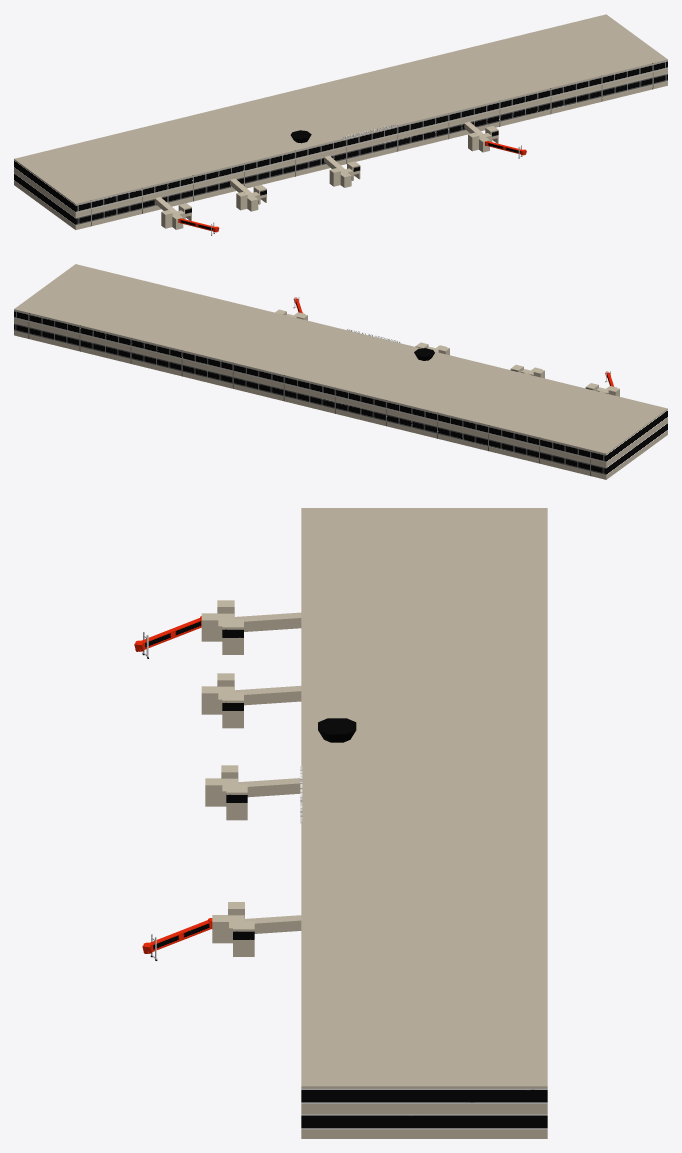
The model's file is LaPalma.glb.
3 renders of one model, top to bottom at view 1: azimuth 30°, elevation 25°; view 2: azimuth 150°, elevation 25°; view 3: azimuth 270°, elevation 25°, orthographic. The views are drawn at different scales.
Visible parts, largest first — view 1: Buffer Object 31, Buffer Object 30, Merged Objects 2, Merged Objects 4, Merged Objects 3, Merged Objects 5; view 2: Buffer Object 31, Buffer Object 30; view 3: Buffer Object 31, Buffer Object 30, Merged Objects 2, Merged Objects 3, Merged Objects 4, Merged Objects 5.
Boxes of the visible parts, x1,y1,x2,y2 form: Buffer Object 31: (14,14,667,203); Buffer Object 30: (14,59,667,229); Merged Objects 2: (230,178,266,211); Merged Objects 4: (324,155,360,187); Merged Objects 3: (155,197,191,229); Merged Objects 5: (464,121,498,152); Buffer Object 31: (14,264,667,453); Buffer Object 30: (14,309,667,479); Buffer Object 31: (301,508,547,1086); Buffer Object 30: (301,1086,547,1138); Merged Objects 2: (201,673,301,728); Merged Objects 3: (201,600,301,654); Merged Objects 4: (205,765,300,820); Merged Objects 5: (212,902,301,956).
Size of the model in its own units: 361 by 18.44 by 109.
14 materials, 5 textured.
